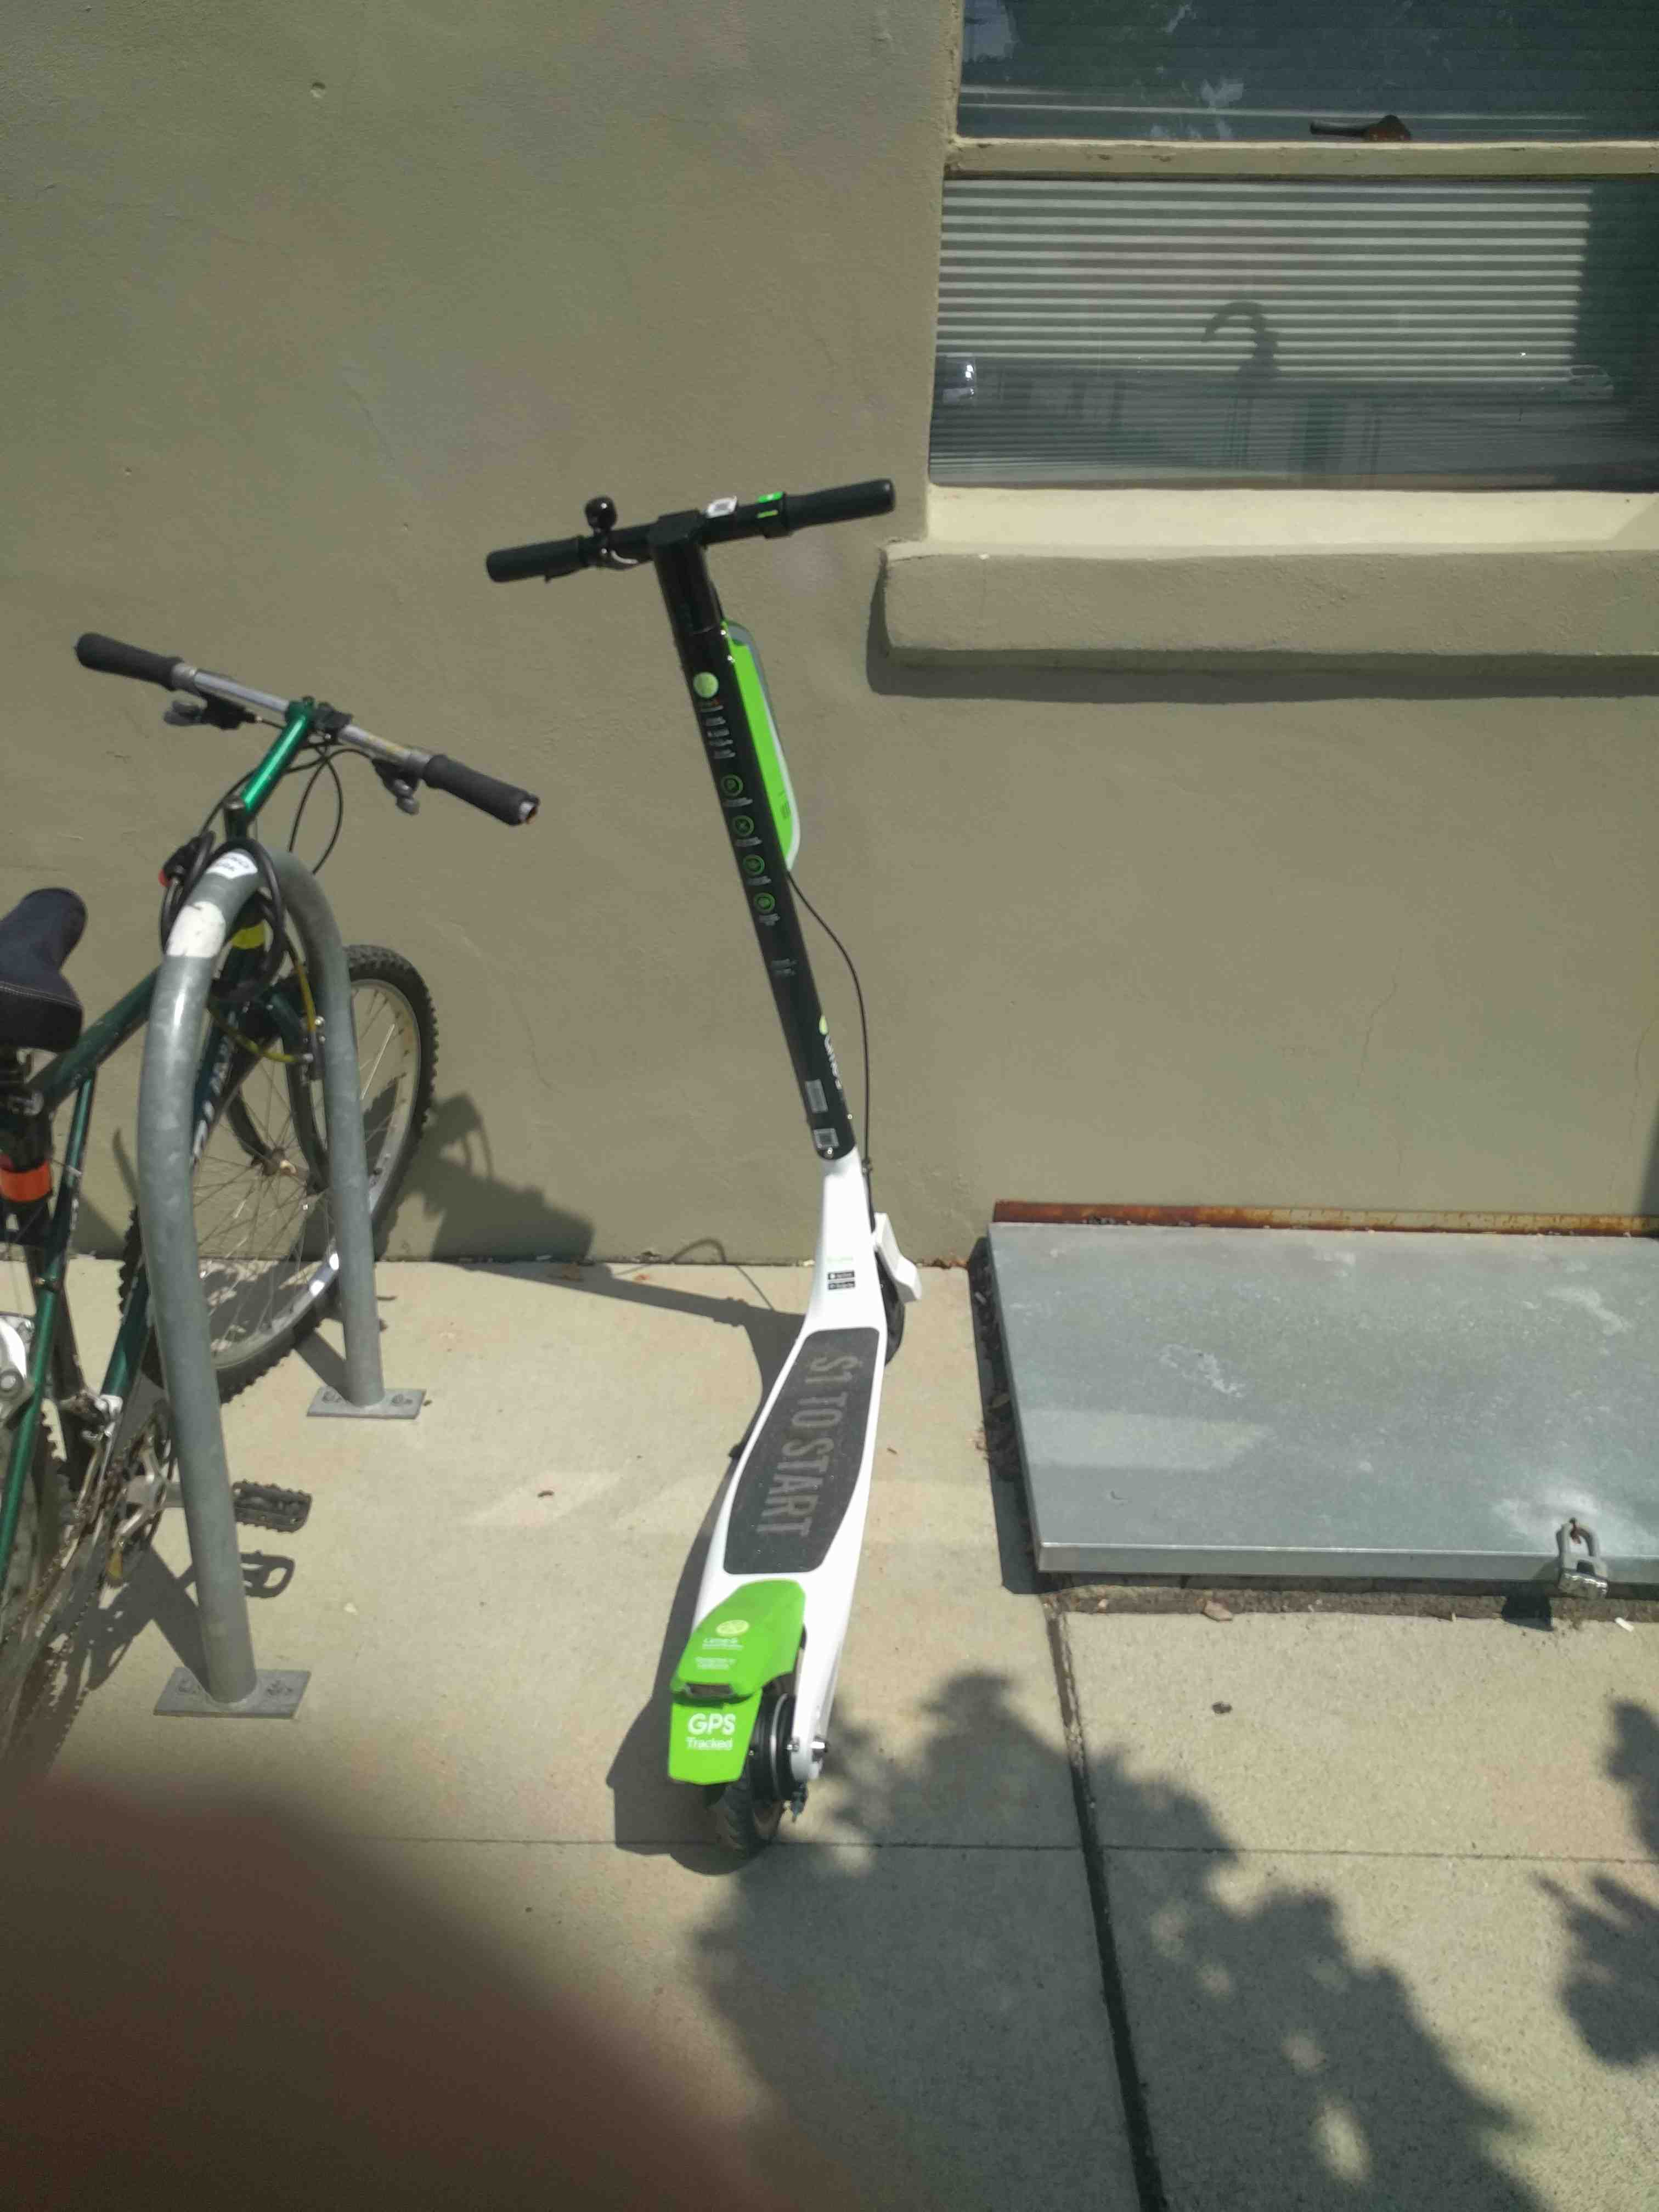scooter: (441, 470, 1018, 1867)
